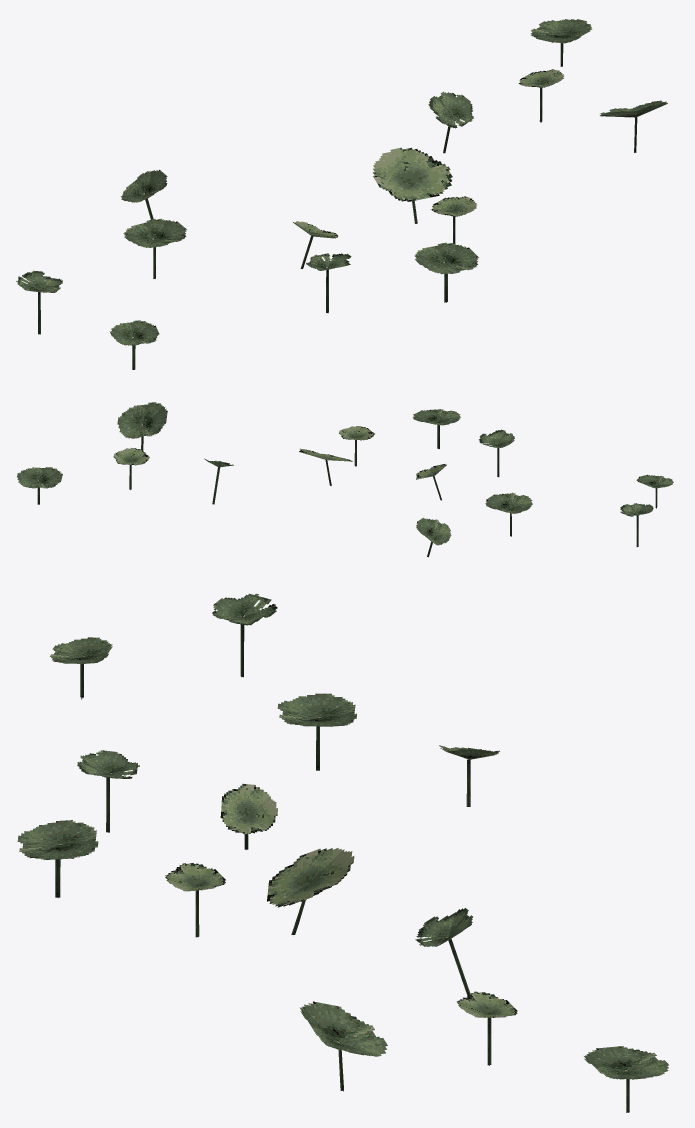
The picture shows the model from 3 angles, top to bottom: view 1: azimuth 30°, elevation 25°; view 2: azimuth 150°, elevation 25°; view 3: azimuth 270°, elevation 25°; orthographic projection. The views are drawn at different scales.
Visible parts, largest first — view 1: mesh00; view 2: mesh00; view 3: mesh00.
Part boxes in pixels (bbox=[...]): mesh00: bbox=[16, 19, 667, 369]; mesh00: bbox=[17, 402, 673, 557]; mesh00: bbox=[17, 593, 668, 1112].
Size of the model in its own units: 1800 by 149 by 1064.
